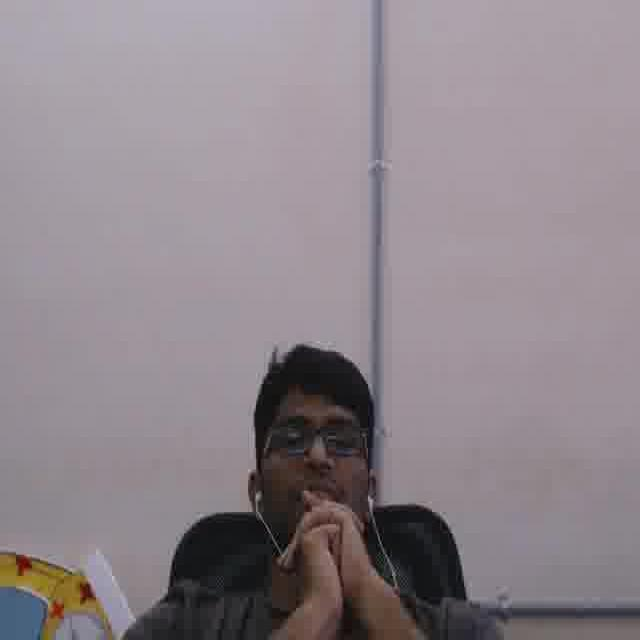Boredom: (265, 384, 362, 540)
